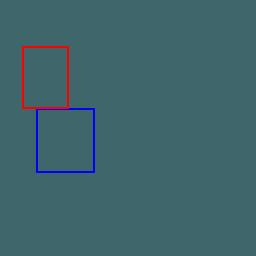Fire: (21, 46, 68, 108)
Person: (35, 108, 94, 172)
